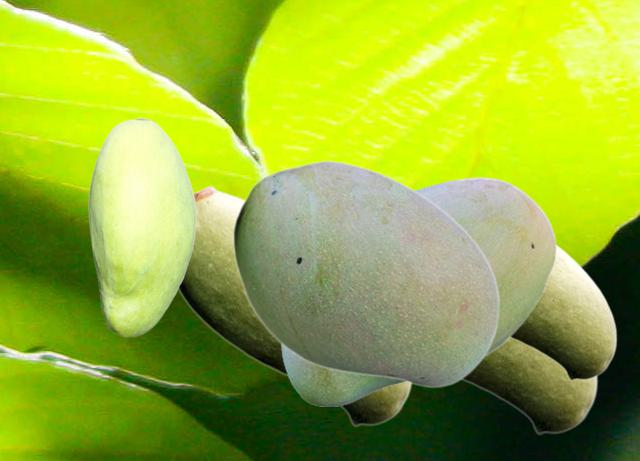green_mango: (281, 177, 556, 405), (232, 159, 499, 387), (178, 184, 412, 426), (88, 117, 195, 336), (511, 242, 616, 380), (462, 339, 597, 434)
